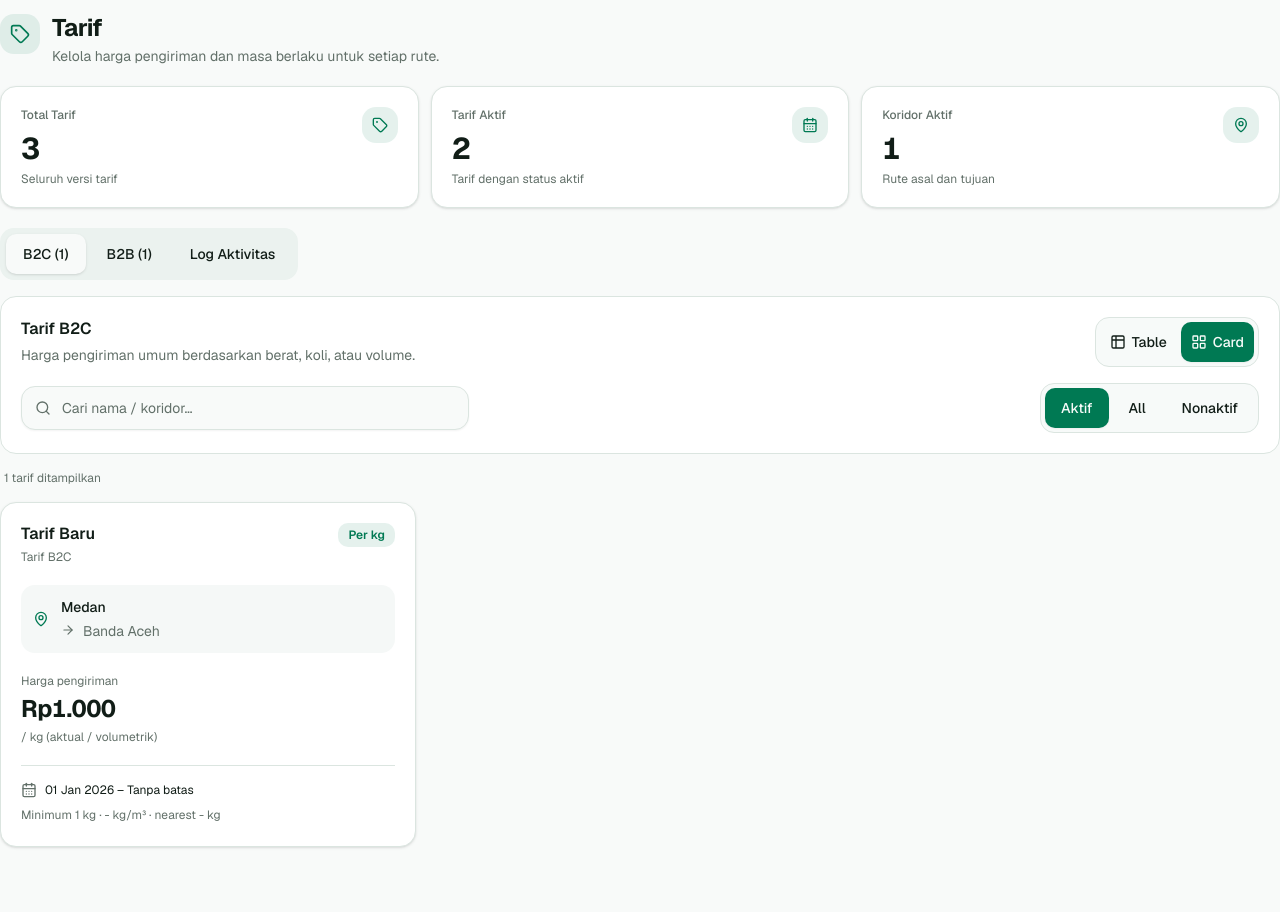
it: switches between table and cards without losing search or status filters
This screenshot has width=1280, height=912.
Expected: the element "Tarif Baru" is shown, [0,502,416,846]
Click the button "All" at point(1137, 408), box [1112,388,1162,428]
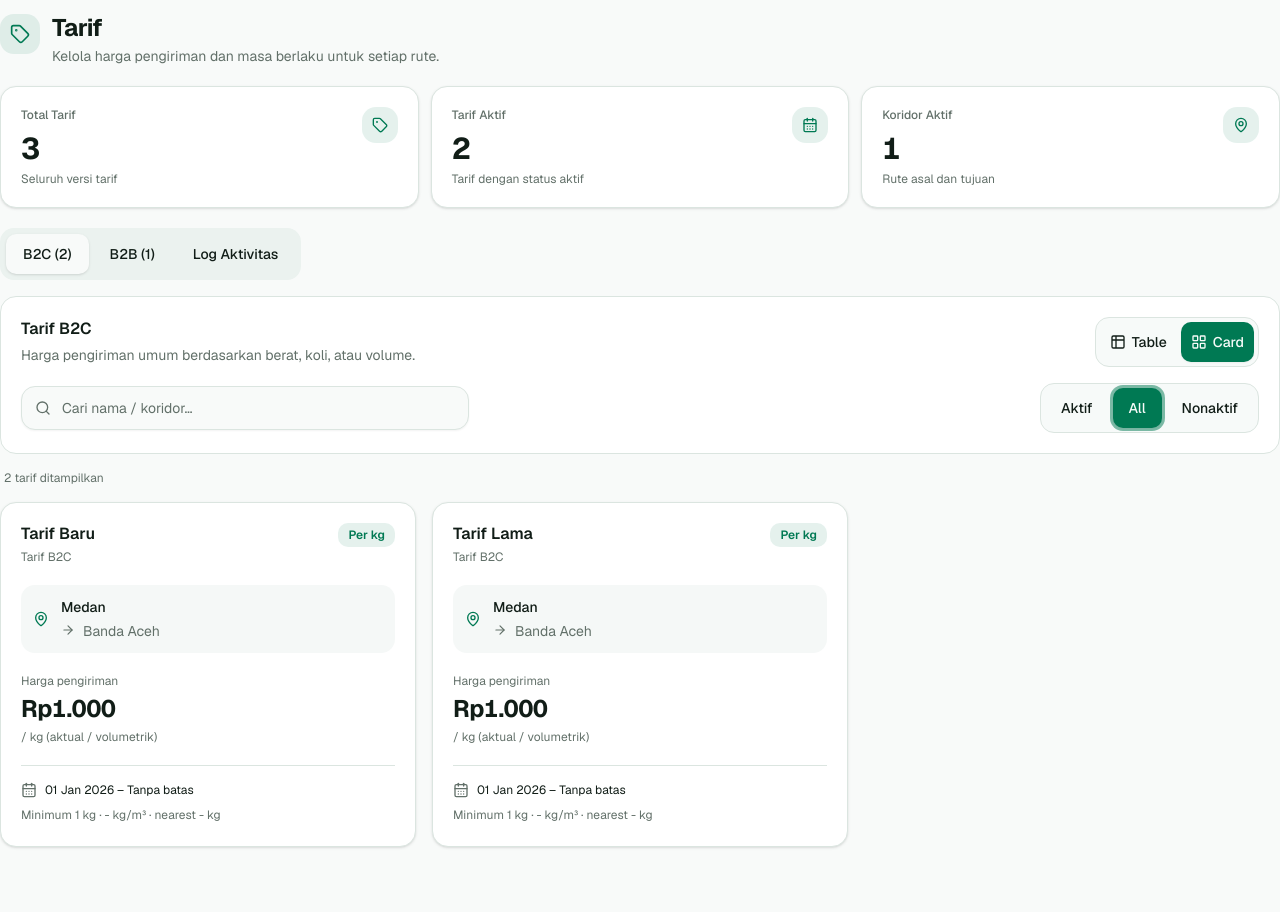
Type "Lama" into the field named "Cari tarif" at point(245, 408), box [21,386,469,430]
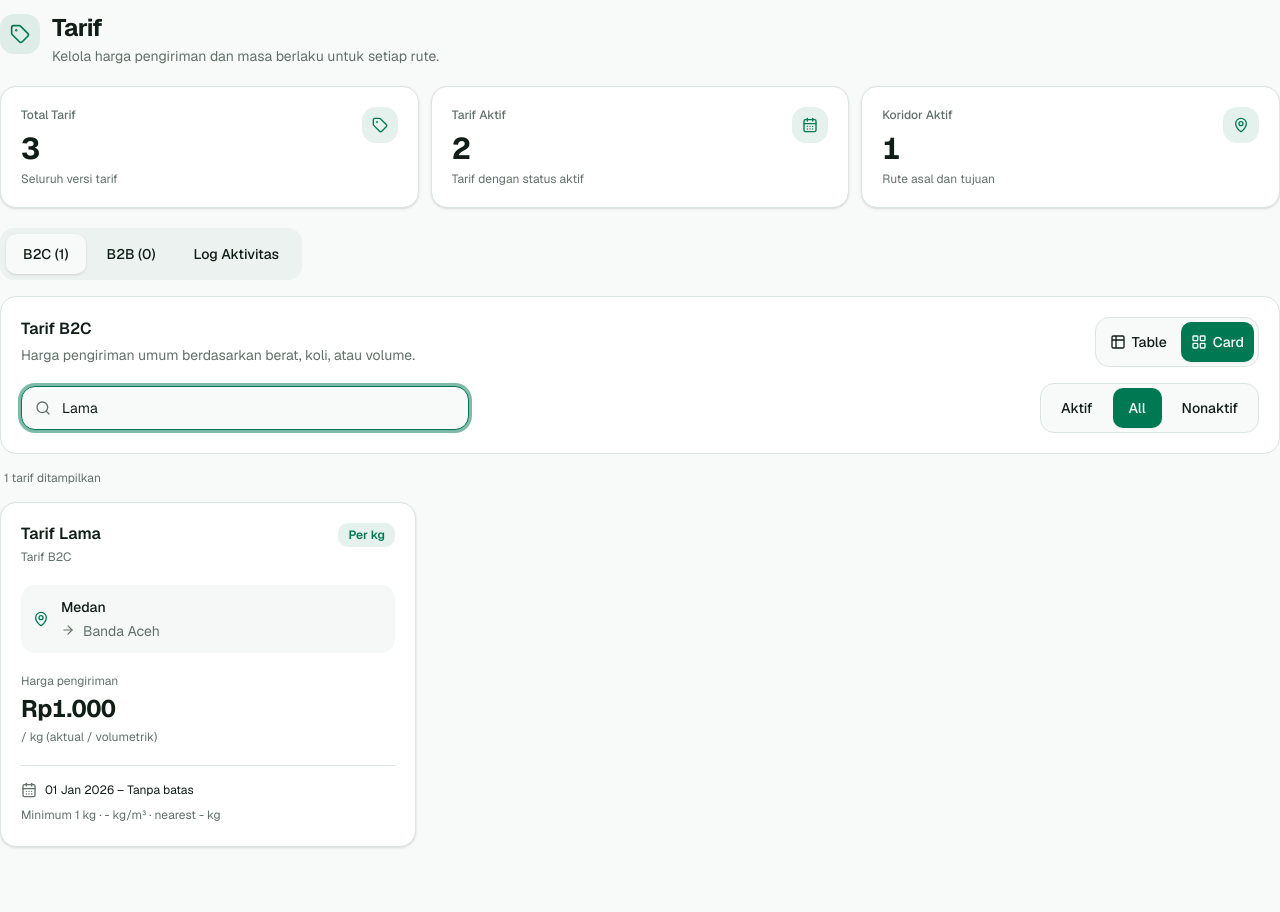
Click the button "Table" at point(1138, 342), box [1100,322,1177,362]
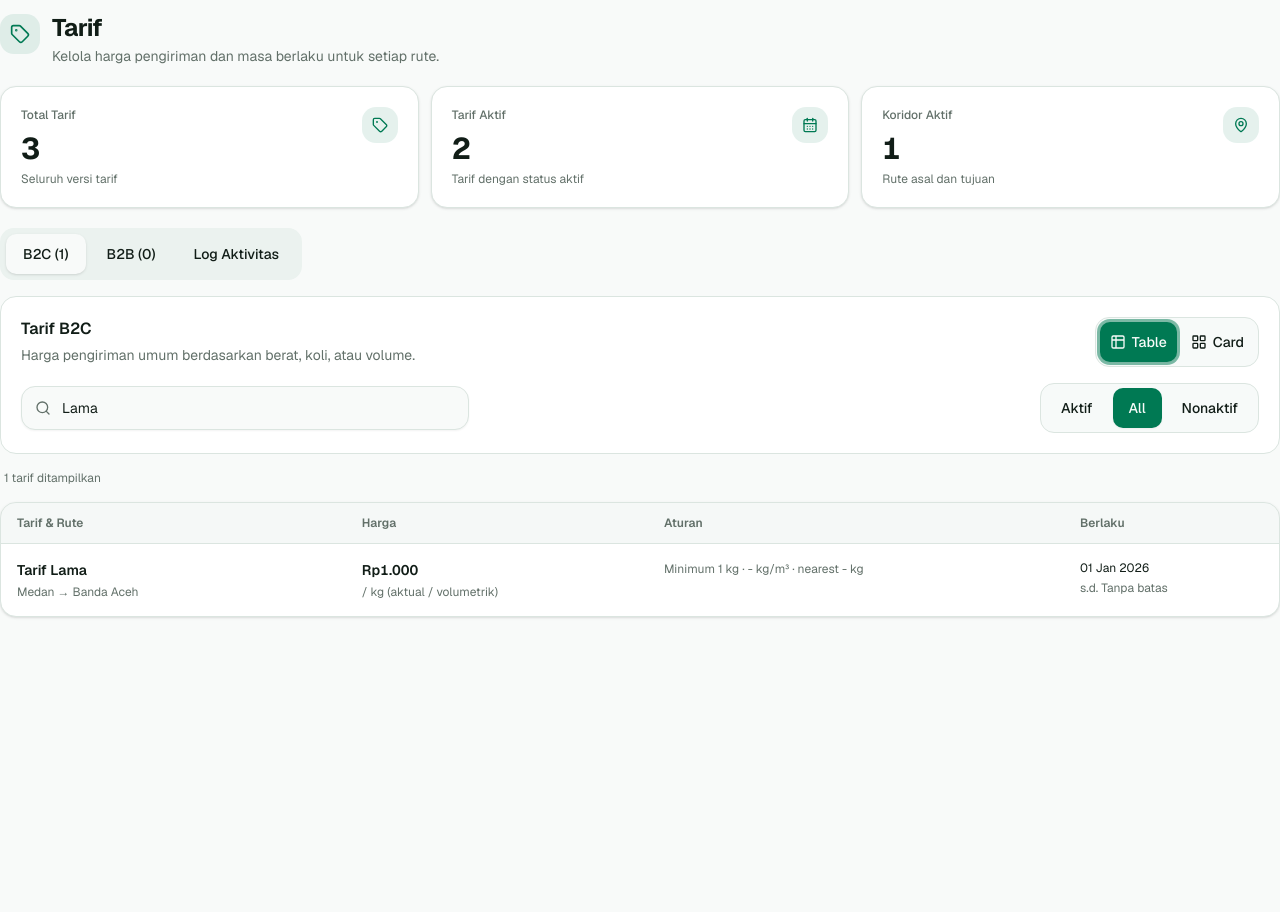
Expected: the heading "Tarif Baru" is not shown
Expected: the text "Tarif Lama" is shown, [17,561,87,579]
Click the button "Card" at point(1217, 342), box [1181,322,1254,362]
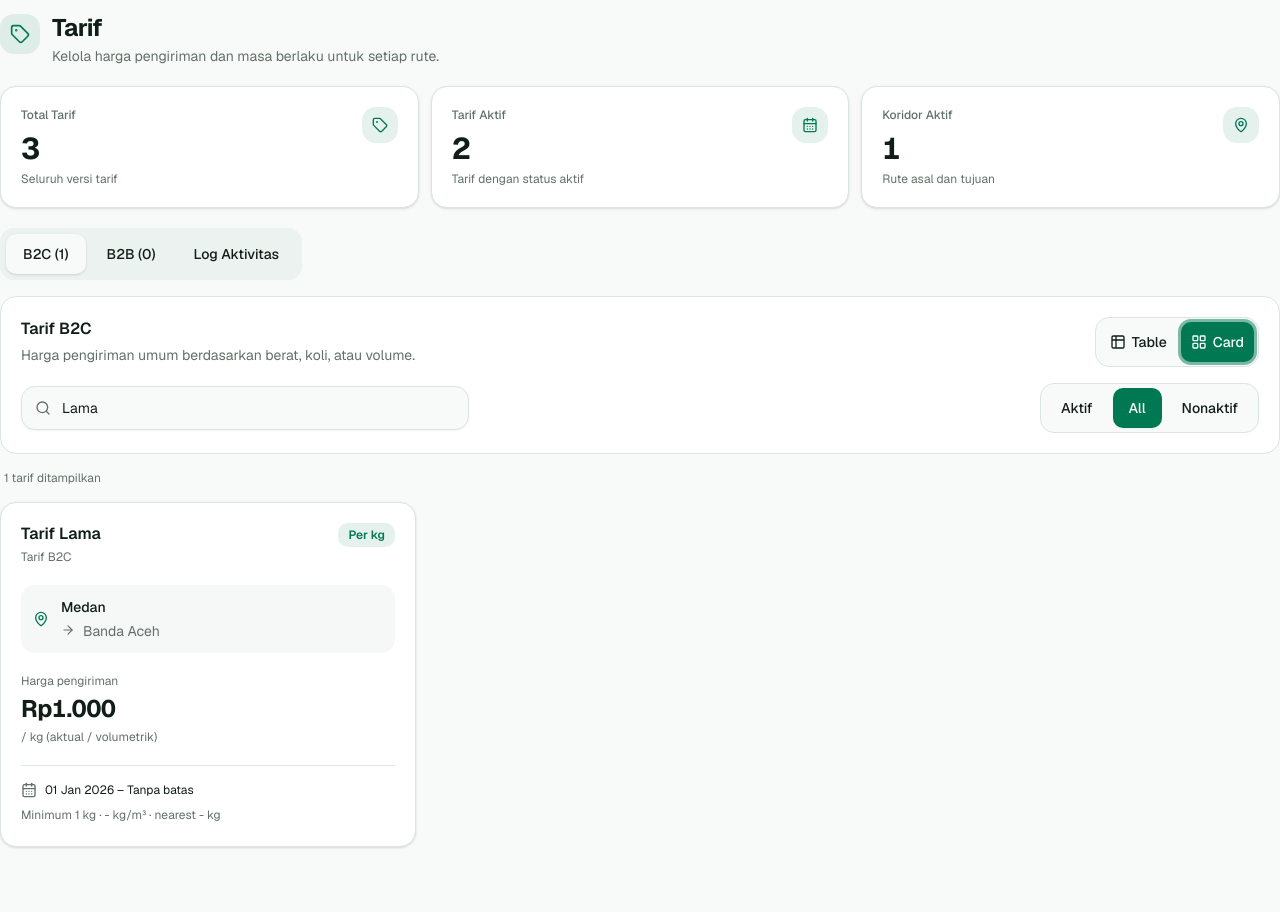
Expected: the element "Tarif Lama" is shown, [0,502,416,846]
Expected: the table is gone
